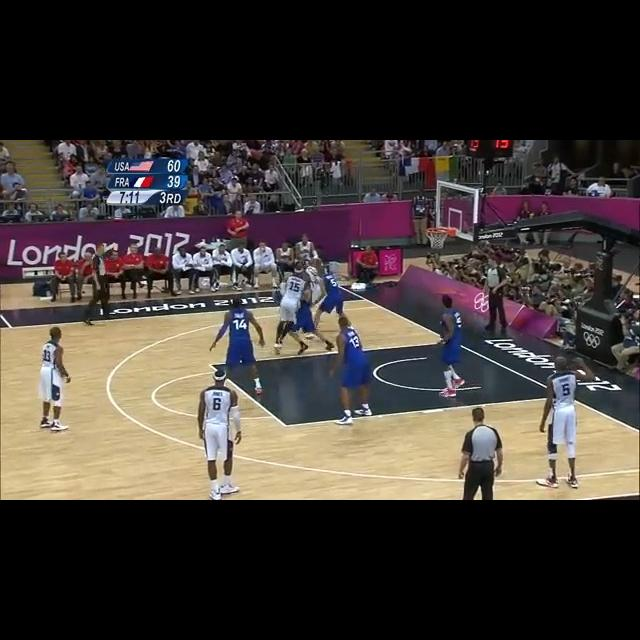hoop: (426, 228, 447, 251)
